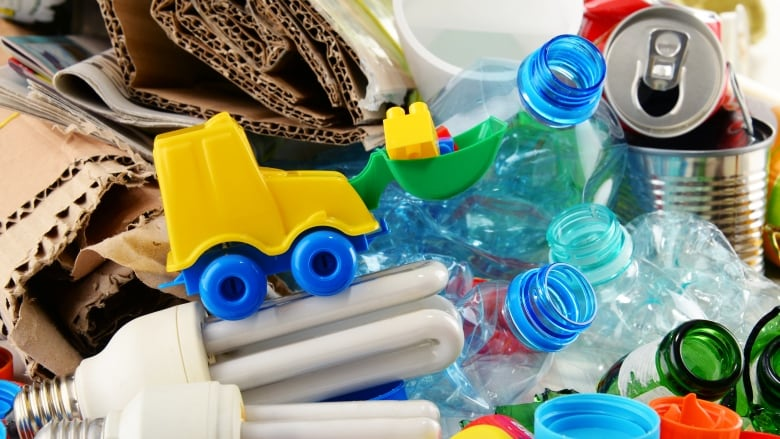plastic_bottle: (301, 1, 660, 347), (490, 100, 780, 407), (353, 138, 635, 426)
